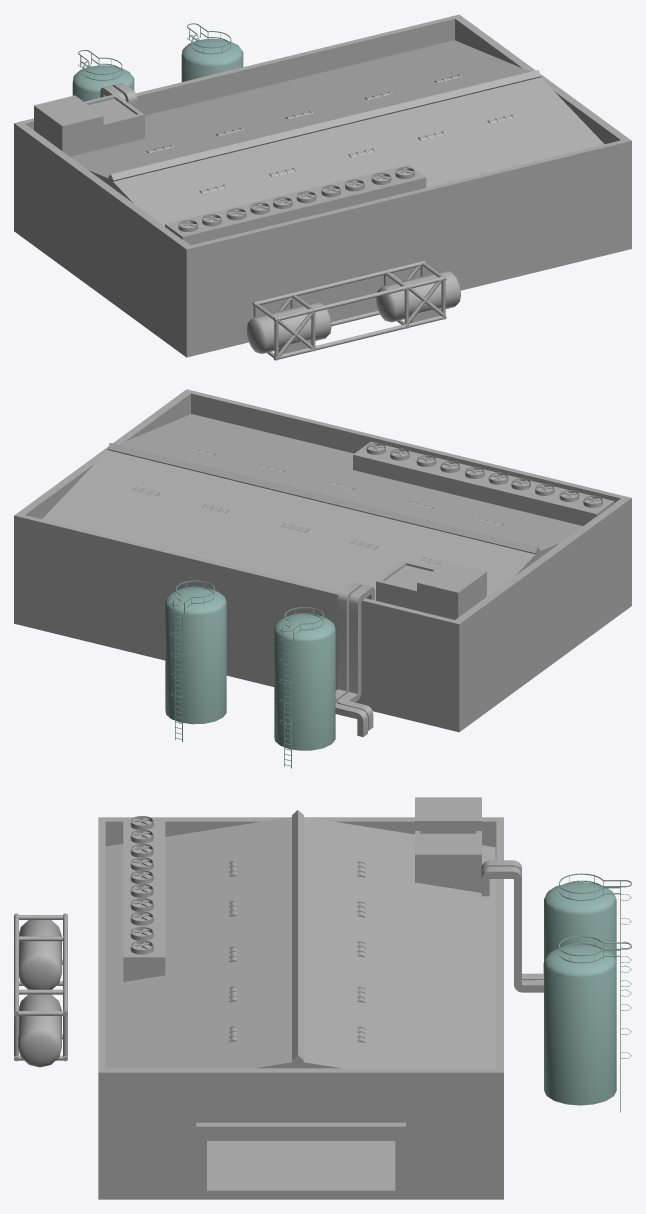
File: _hangar_gdi.fbx
3 renders of one model, top to bottom at view 1: azimuth 30°, elevation 25°; view 2: azimuth 150°, elevation 25°; view 3: azimuth 270°, elevation 25°, orthographic. The views are drawn at different scales.
Visible parts, largest first — view 1: polymsh116, polymsh_detached2632, polymsh_detached2631; view 2: polymsh116, polymsh_detached2631, polymsh_detached2632; view 3: polymsh116, polymsh_detached2632, polymsh_detached2631.
Boxes of the visible parts, left/top/right/bottom form: polymsh116: left=14, top=14, right=631, bottom=360; polymsh_detached2632: left=181, top=23, right=243, bottom=81; polymsh_detached2631: left=72, top=50, right=134, bottom=101; polymsh116: left=14, top=389, right=631, bottom=736; polymsh_detached2631: left=274, top=607, right=335, bottom=768; polymsh_detached2632: left=165, top=580, right=226, bottom=741; polymsh116: left=14, top=797, right=543, bottom=1199; polymsh_detached2632: left=544, top=936, right=631, bottom=1112; polymsh_detached2631: left=544, top=873, right=631, bottom=996.
Bounding box in the file's own units: 170 × 57.12 × 171.
